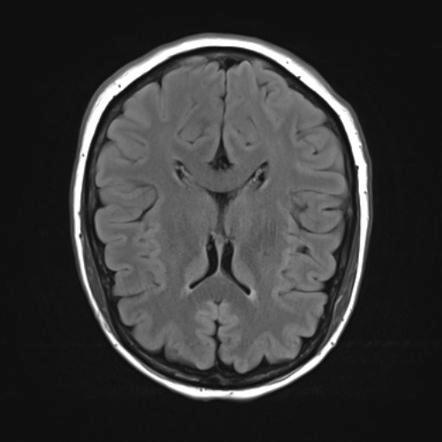Normal_Brain: (38, 6, 386, 442)
